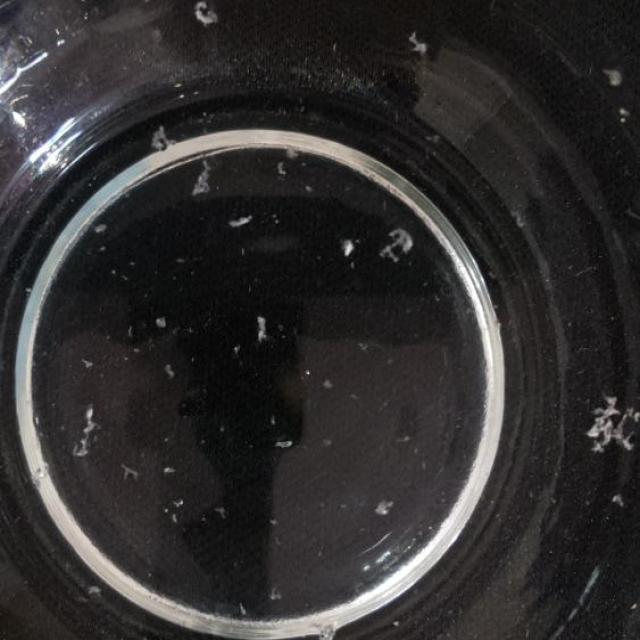fiber: (591, 388, 640, 471), (383, 227, 416, 270), (75, 402, 97, 461), (192, 163, 218, 200), (192, 2, 228, 28), (148, 124, 174, 156), (599, 65, 631, 90), (314, 616, 342, 640), (253, 313, 269, 349), (167, 500, 188, 527), (119, 462, 143, 484), (616, 105, 634, 134), (226, 213, 256, 230), (407, 30, 428, 54), (340, 240, 360, 263), (612, 489, 628, 515), (378, 498, 396, 520), (214, 503, 232, 523), (162, 362, 181, 380), (268, 514, 283, 535), (238, 600, 252, 622), (268, 588, 287, 604), (86, 583, 109, 596), (161, 457, 176, 476), (324, 435, 338, 455), (176, 252, 189, 273), (276, 437, 293, 452), (81, 355, 95, 373), (94, 223, 109, 238), (153, 314, 167, 328), (288, 146, 300, 162), (392, 615, 403, 632), (278, 160, 287, 180), (322, 380, 333, 393), (232, 343, 242, 356), (304, 183, 316, 191)
